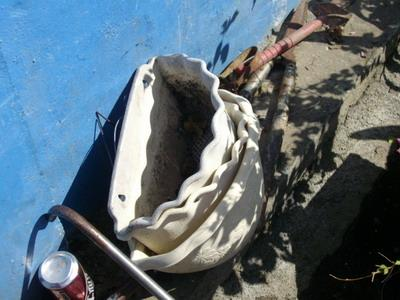bowl: (109, 54, 235, 243)
